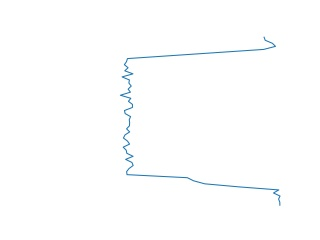distributaryChannelFill: (115, 39, 288, 204)
